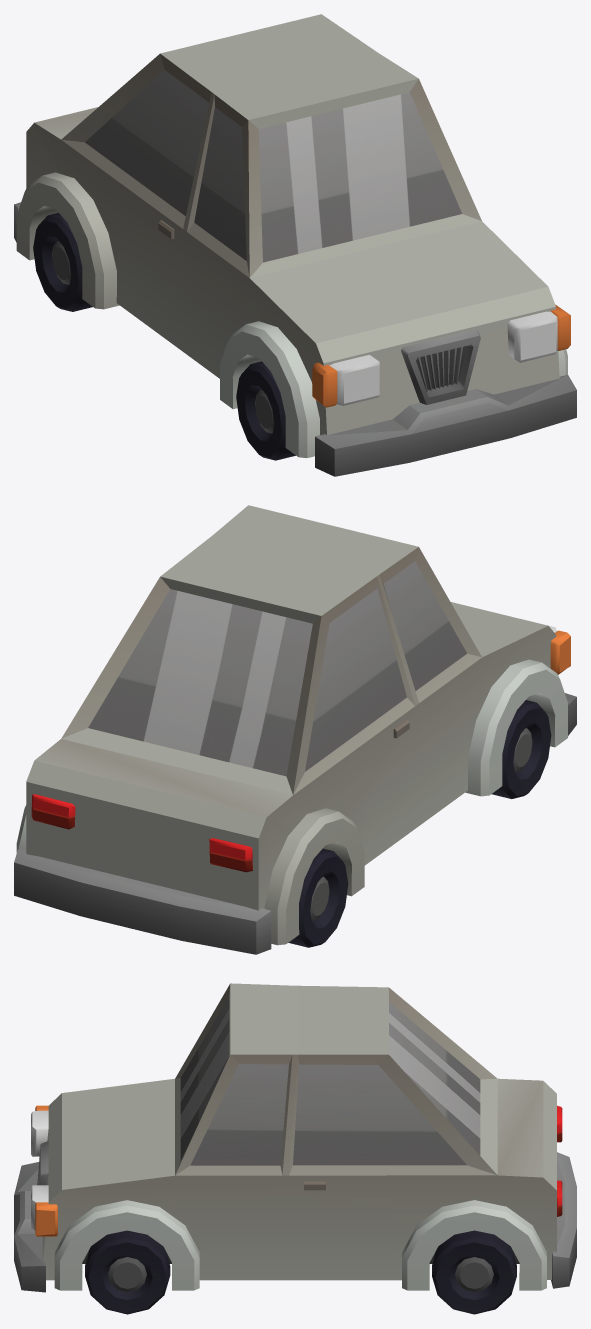
The model's file is Car_4_20.glb.
3 views of the same model, one above another, from view 1: azimuth 30°, elevation 25°; view 2: azimuth 150°, elevation 25°; view 3: azimuth 270°, elevation 25° (orthographic). The views are drawn at different scales.
Parts seen in each view (by area): view 1: Car_4_20, BWhel_FR, BWhel_BR; view 2: Car_4_20, BWhel_BR, BWhel_FR; view 3: Car_4_20, BWhel_FL, BWhel_BL.
Part boxes in pixels (x1=…): Car_4_20: x1=14, y1=14, x2=576, y2=476; BWhel_FR: x1=236, y1=361, x2=295, y2=460; BWhel_BR: x1=33, y1=212, x2=92, y2=311; Car_4_20: x1=14, y1=505, x2=576, y2=954; BWhel_BR: x1=288, y1=848, x2=348, y2=947; BWhel_FR: x1=491, y1=700, x2=551, y2=798; Car_4_20: x1=14, y1=983, x2=576, y2=1292; BWhel_FL: x1=85, y1=1230, x2=170, y2=1314; BWhel_BL: x1=432, y1=1230, x2=516, y2=1314.
Bounding box in the file's own units: 1.09 × 1.09 × 2.3.
Materials: 6 (6 with a texture image).
